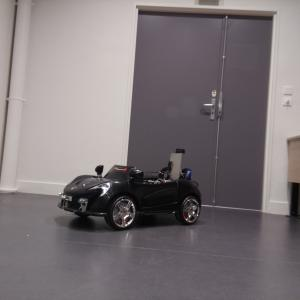big: (57, 164, 205, 231)
